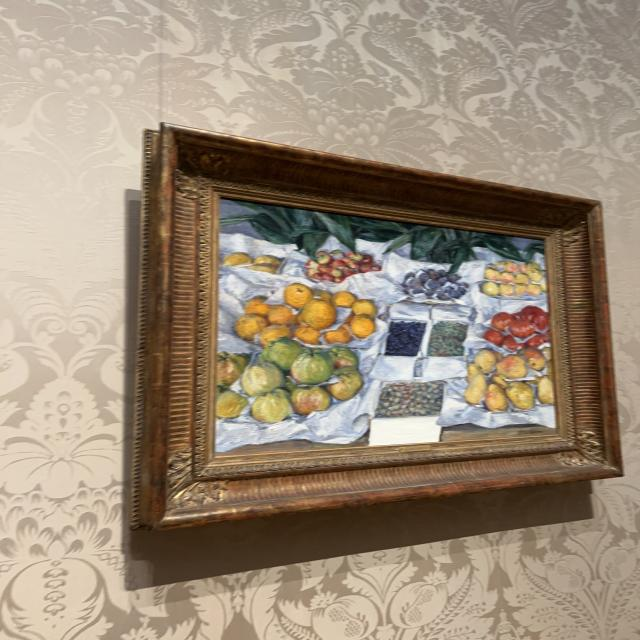fruits: (214, 200, 559, 456)
